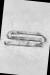Z7: (1, 0, 50, 74)
